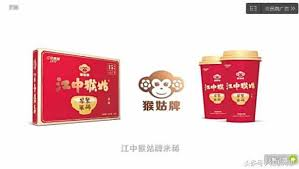box: (32, 47, 121, 124)
cup: (221, 50, 260, 124), (199, 56, 224, 119)
